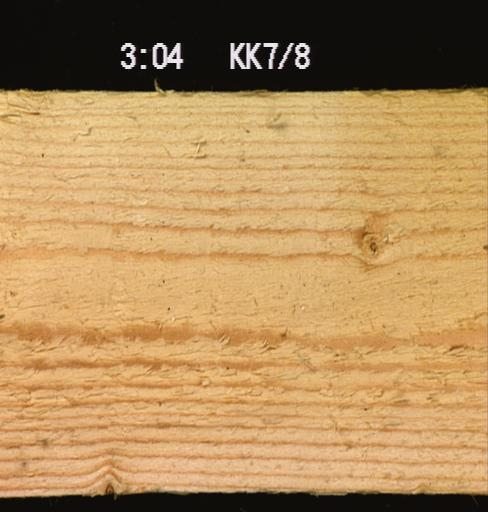edge_knot: (95, 465, 126, 498)
small_knot: (350, 208, 406, 269)
